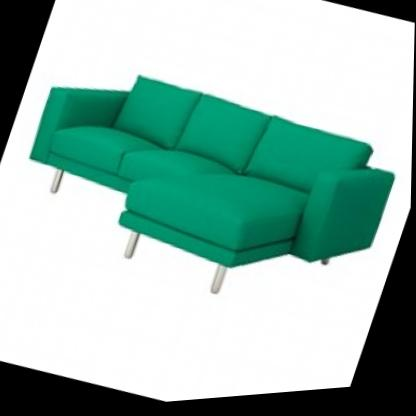Sofa: (0, 0, 416, 369)
